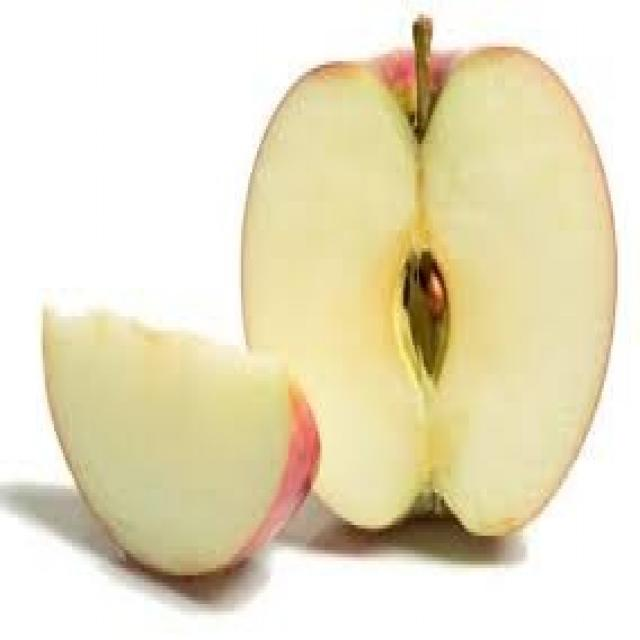Apple: (248, 32, 624, 546), (27, 284, 325, 604)
